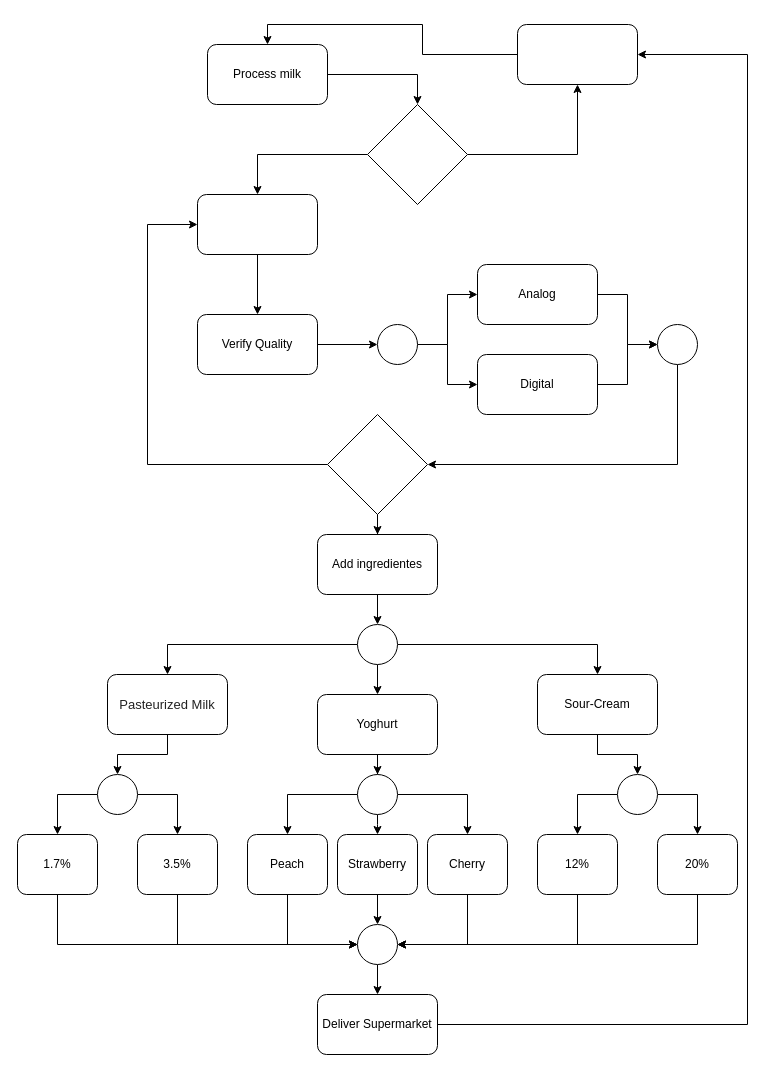
Image size: 773x1072. Some labels were removed from this diagram. Each missing label, with the centre of its shape:
"Collect milk from farms" belongs at point 577,54.
"Is quality ok?" belongs at point 377,464.
"Select ingredientes" belongs at point 257,224.
"Was the milk precessed?" belongs at point 417,154.
